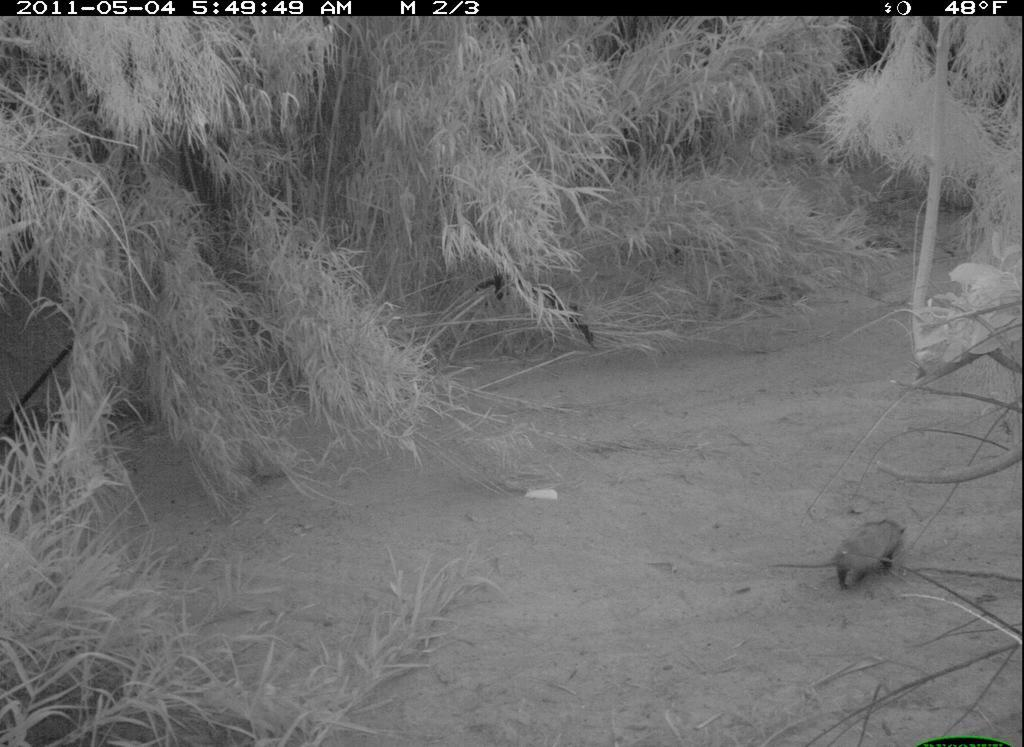opossum: (777, 506, 918, 603)
